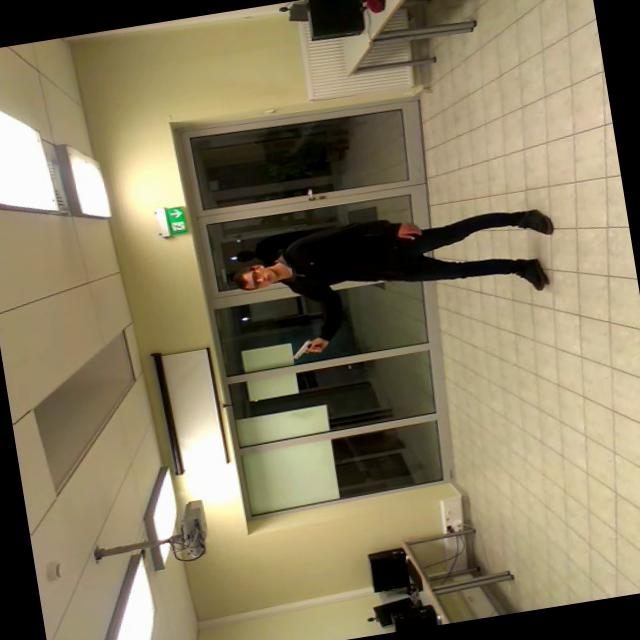handgun: (284, 329, 336, 364)
